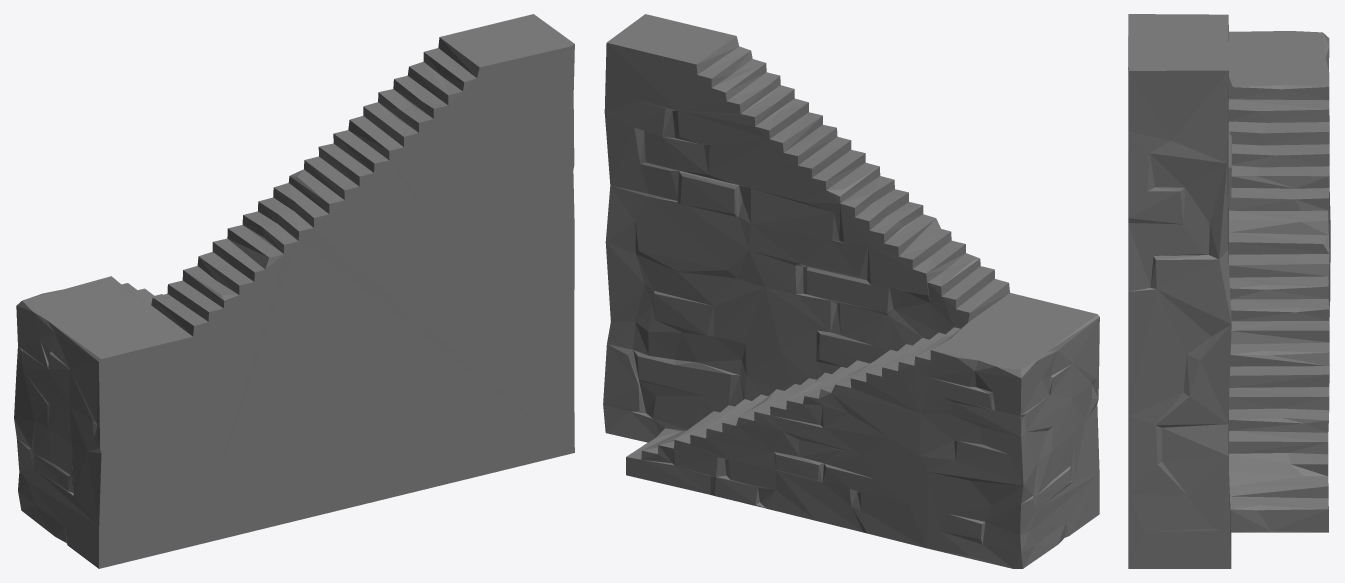
Rendered from castle_battlement_stairs_a2.FBX.
3 views of the same model, side by side, from view 1: azimuth 30°, elevation 25°; view 2: azimuth 150°, elevation 25°; view 3: azimuth 270°, elevation 25° (orthographic). The views are drawn at different scales.
Parts seen in each view (by area): view 1: castle_battlement_stairs_a2; view 2: castle_battlement_stairs_a2; view 3: castle_battlement_stairs_a2.
Boxes of the visible parts, <box> form: castle_battlement_stairs_a2: <box>14,14,574,568</box>; castle_battlement_stairs_a2: <box>603,14,1099,568</box>; castle_battlement_stairs_a2: <box>1128,14,1330,568</box>.
Bounding box in the file's own units: 10.1 × 8.2 × 3.02.
